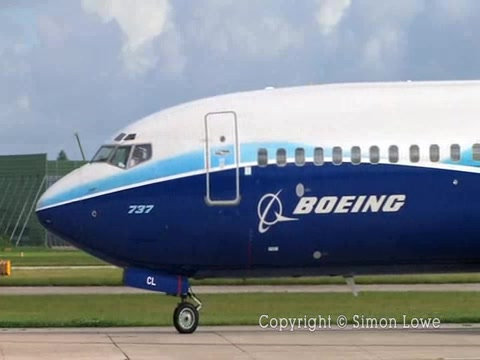aeroplane: (34, 81, 480, 335)
